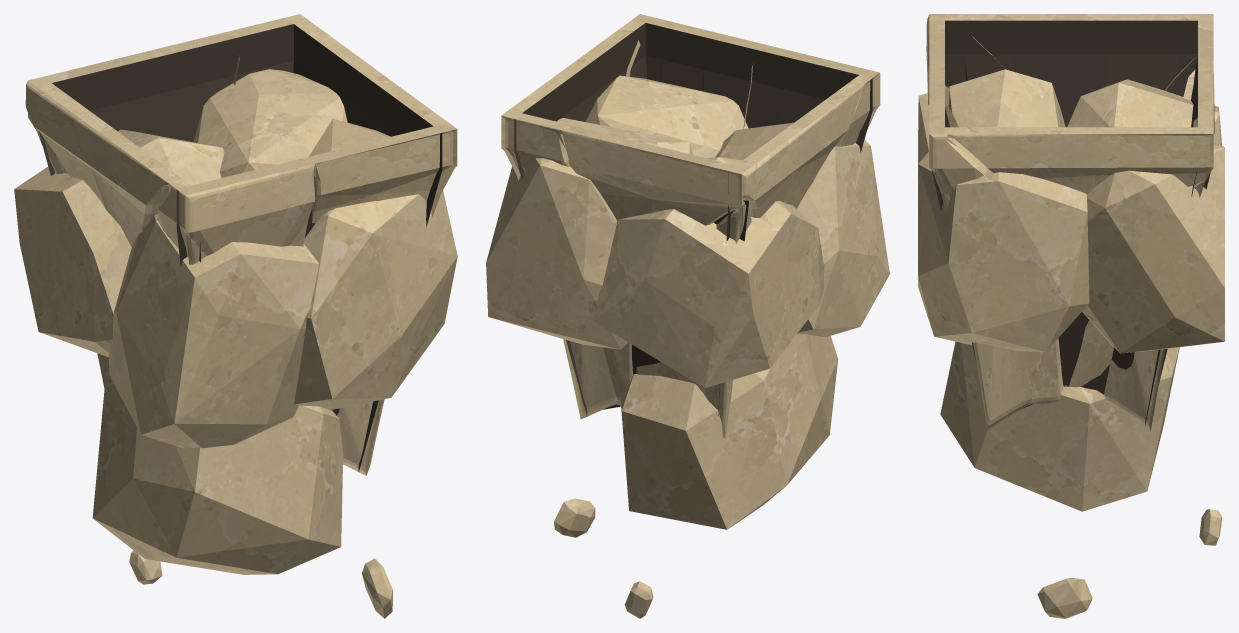
The model's file is ground_bottom_island_02.glb.
3 views of the same model, side by side, from view 1: azimuth 30°, elevation 25°; view 2: azimuth 150°, elevation 25°; view 3: azimuth 270°, elevation 25° (orthographic). The views are drawn at different scales.
Visible parts, largest first — view 1: GroundBottomIsland02_Body; view 2: GroundBottomIsland02_Body; view 3: GroundBottomIsland02_Body.
Part boxes in pixels (left/top/right/bottom): GroundBottomIsland02_Body: left=14, top=14, right=457, bottom=618; GroundBottomIsland02_Body: left=486, top=14, right=889, bottom=618; GroundBottomIsland02_Body: left=918, top=14, right=1224, bottom=618.
Bounding box in the file's own units: 1.08 × 1.89 × 1.08.
Materials: 14 (13 with a texture image).
